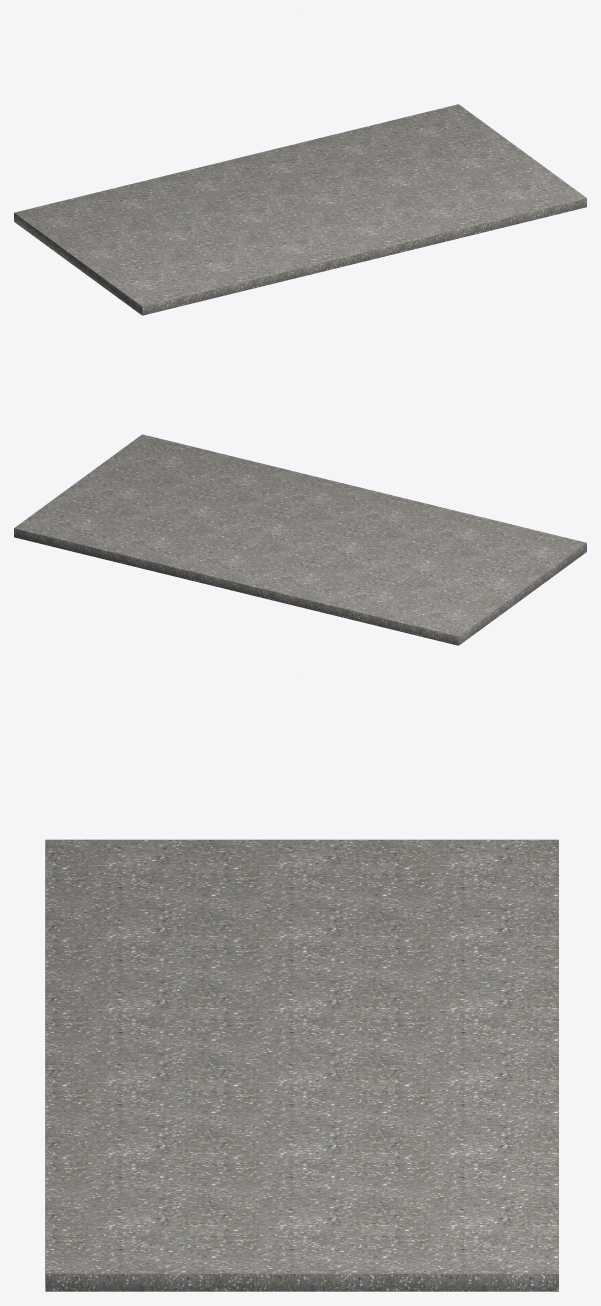
The model's file is SER-CNT-004_anim.glb.
3 views of the same model, one above another, from view 1: azimuth 30°, elevation 25°; view 2: azimuth 150°, elevation 25°; view 3: azimuth 270°, elevation 25° (orthographic). The views are drawn at different scales.
Visible parts, largest first — view 1: SER-CNT-004_anim0; view 2: SER-CNT-004_anim0; view 3: SER-CNT-004_anim0.
Boxes of the visible parts, box(x1,y1,x2,y2) form: SER-CNT-004_anim0: box(14, 104, 586, 315); SER-CNT-004_anim0: box(14, 434, 586, 645); SER-CNT-004_anim0: box(45, 839, 558, 1291).
Size of the model in its own units: 6 by 2.58 by 3.02.
3 materials, 3 textured.
